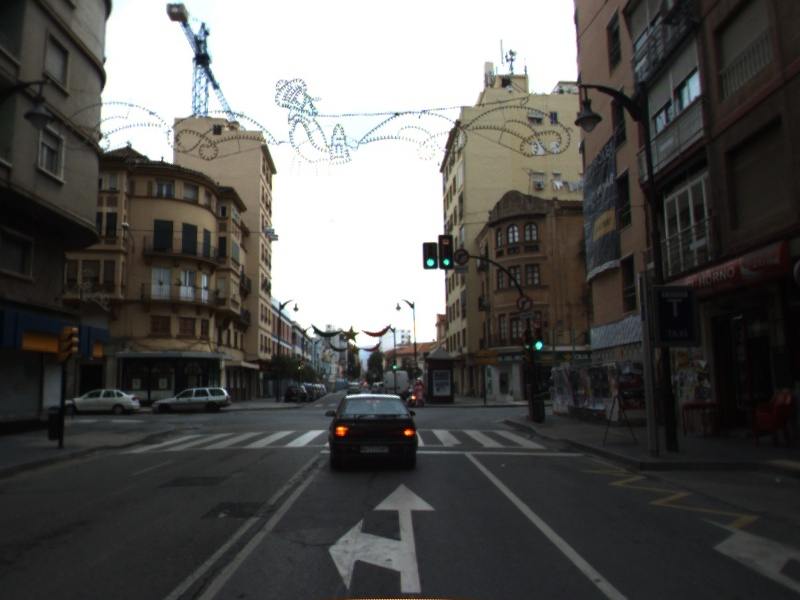RIGHT: (700, 516, 800, 592)
STRAIGHT_LEFT: (326, 480, 440, 595)
